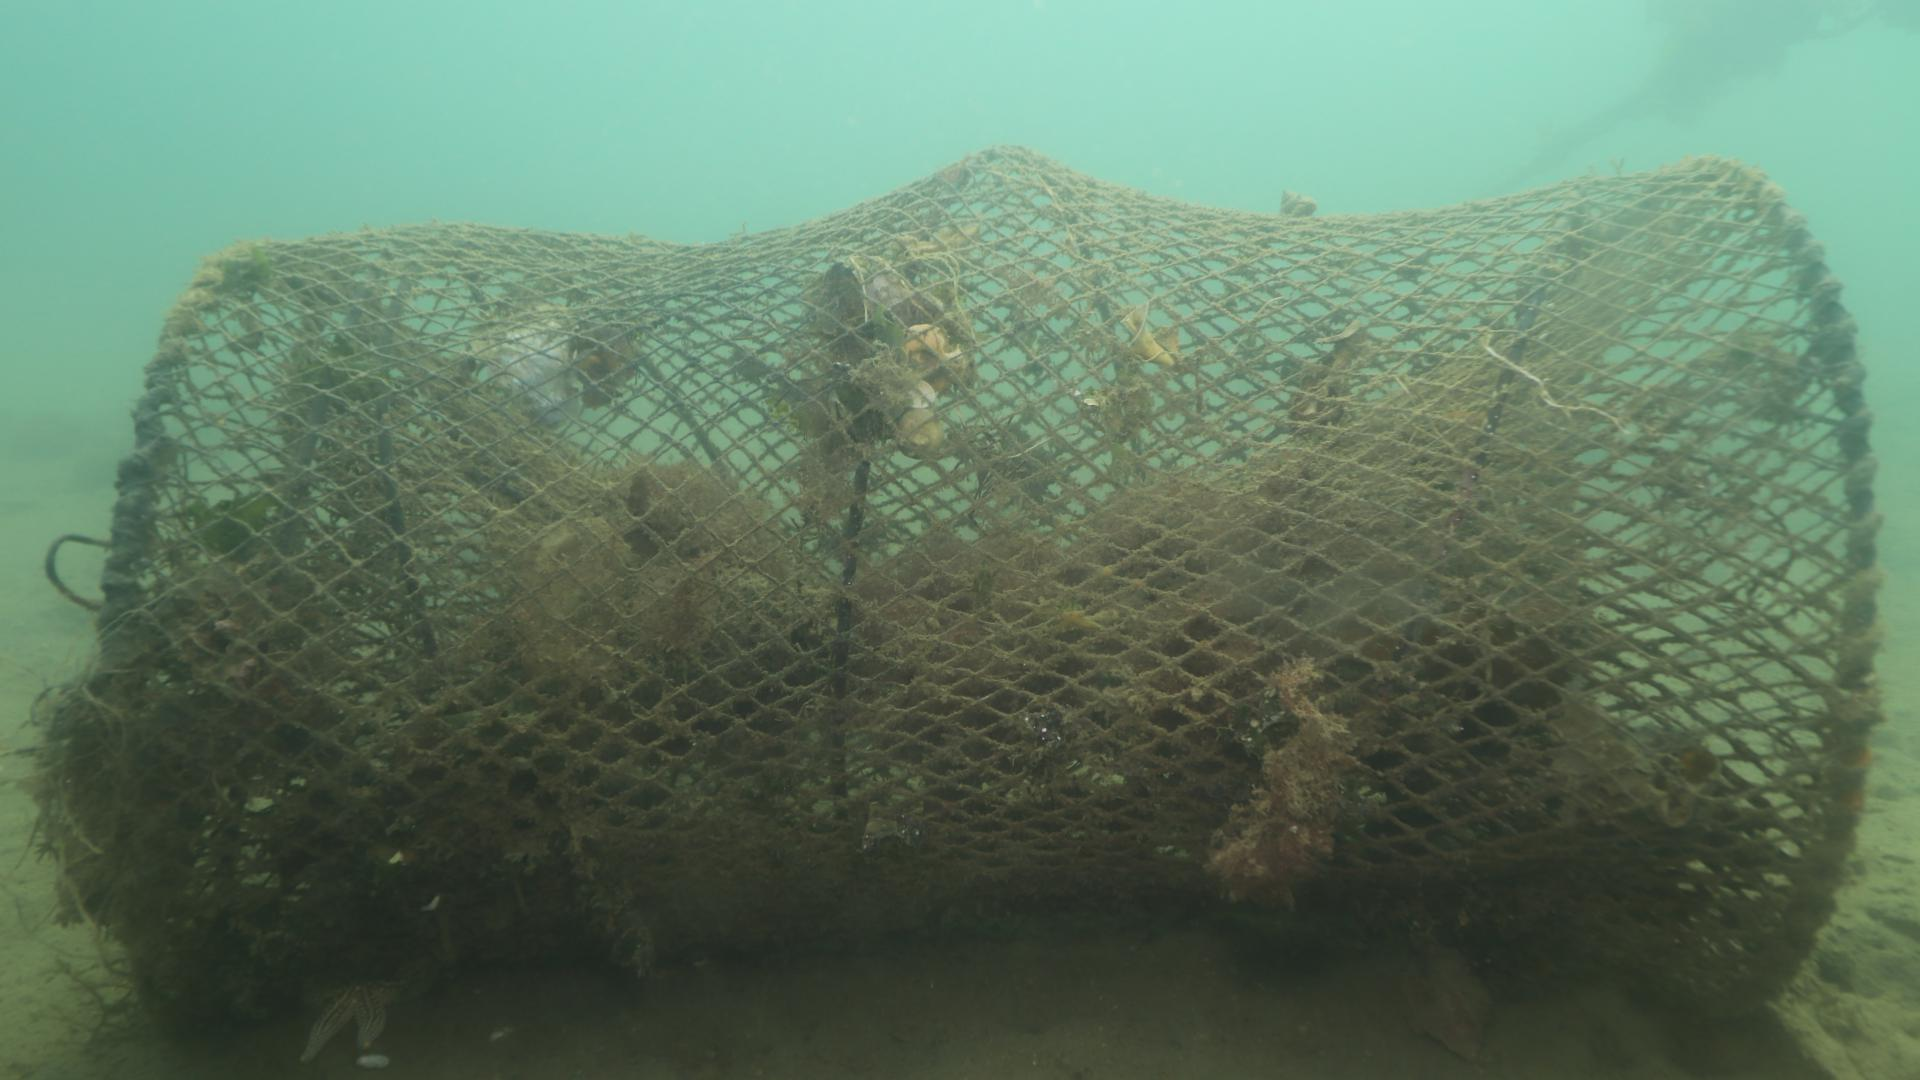spring fish trap: (94, 145, 1876, 1080)
